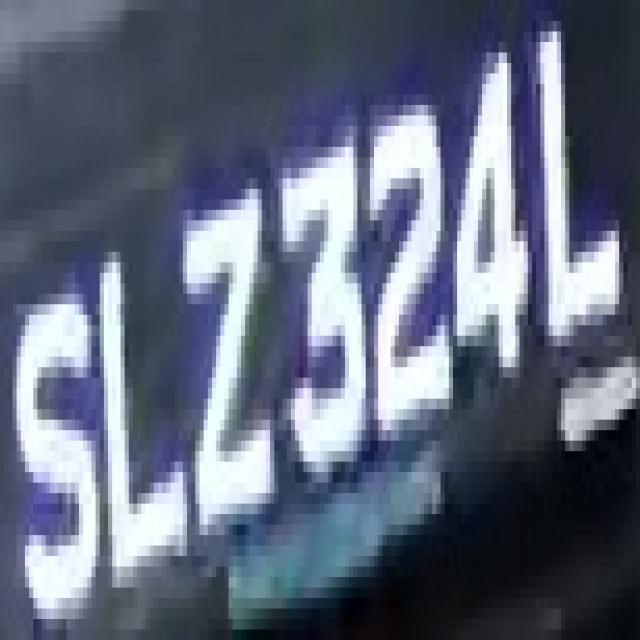2: (349, 95, 461, 451)
3: (270, 147, 370, 514)
4: (445, 21, 532, 420)
L: (532, 10, 636, 378), (92, 210, 191, 587)
S: (16, 242, 96, 630)
Z: (166, 157, 283, 535)
